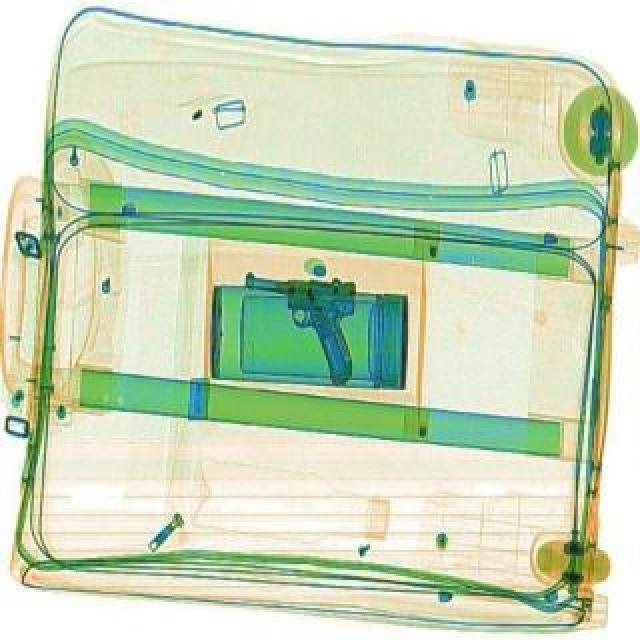gun: (232, 268, 364, 386)
